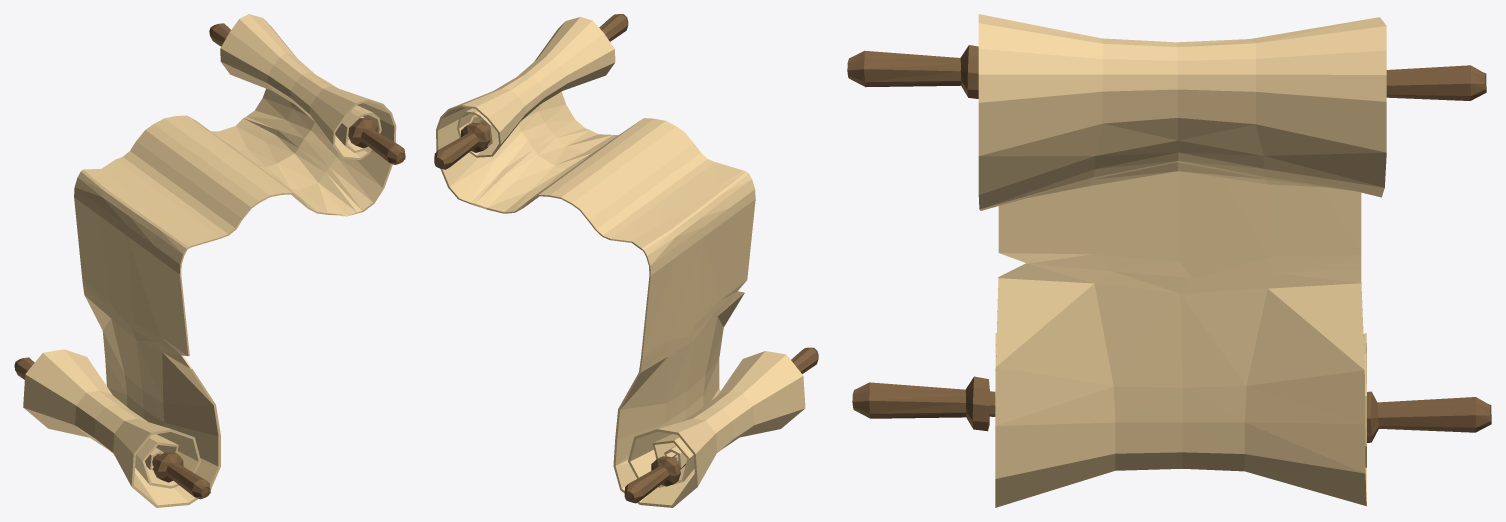
The model's file is AWS_Scroll_OPN_002.fbx.
The picture shows the model from 3 angles, left to right: view 1: azimuth 30°, elevation 25°; view 2: azimuth 150°, elevation 25°; view 3: azimuth 270°, elevation 25°; orthographic projection. The views are drawn at different scales.
Visible parts, largest first — view 1: AWS_Scroll_OPN_002; view 2: AWS_Scroll_OPN_002; view 3: AWS_Scroll_OPN_002.
Part boxes in pixels (x1,y1,x2,y2): AWS_Scroll_OPN_002: (14,14,405,507); AWS_Scroll_OPN_002: (434,14,818,507); AWS_Scroll_OPN_002: (847,14,1491,507).
Bounding box in the file's own units: 54.69 × 73.81 × 68.65.
